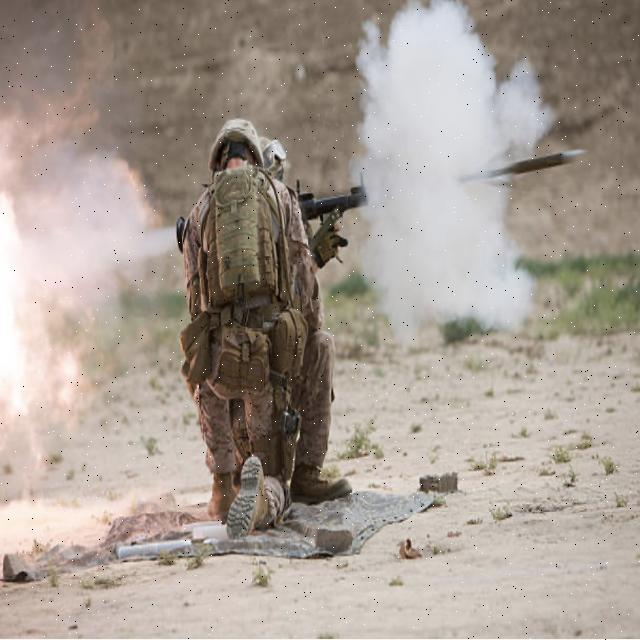bazooka: (290, 162, 381, 242)
